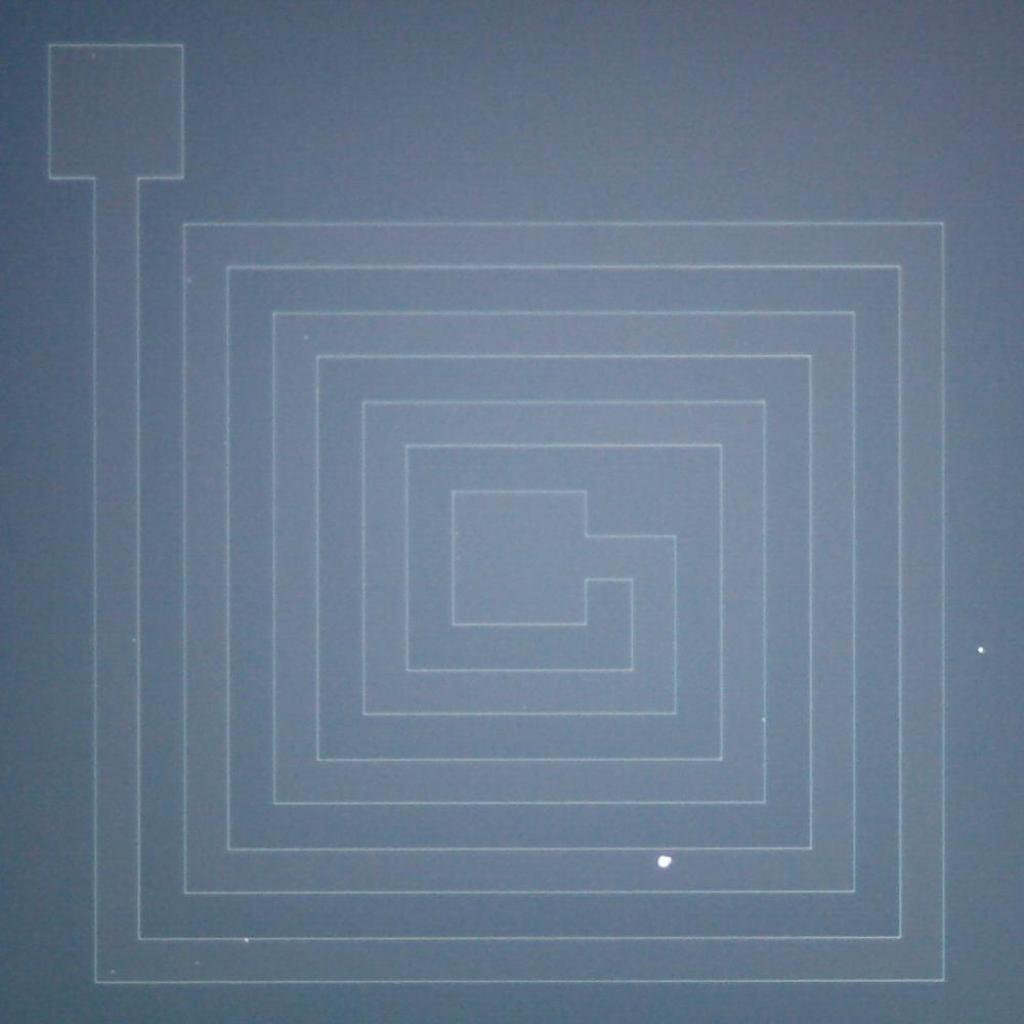dot: (657, 853, 672, 869), (978, 646, 984, 652)
